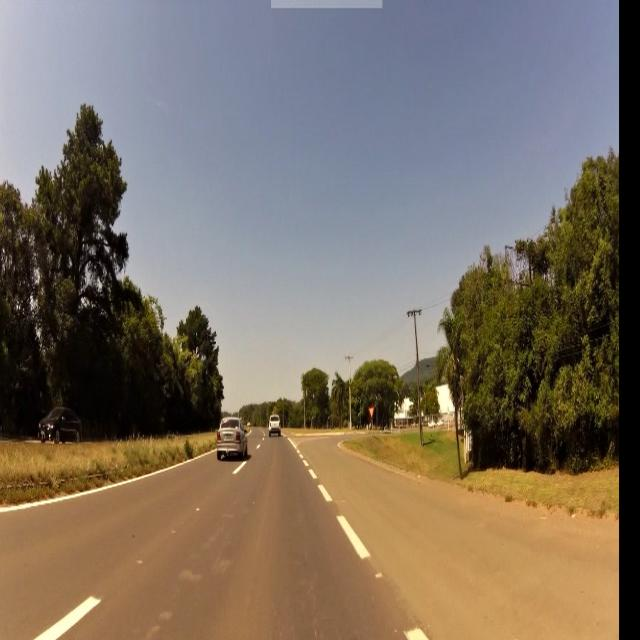R-2: (367, 405, 377, 421)
